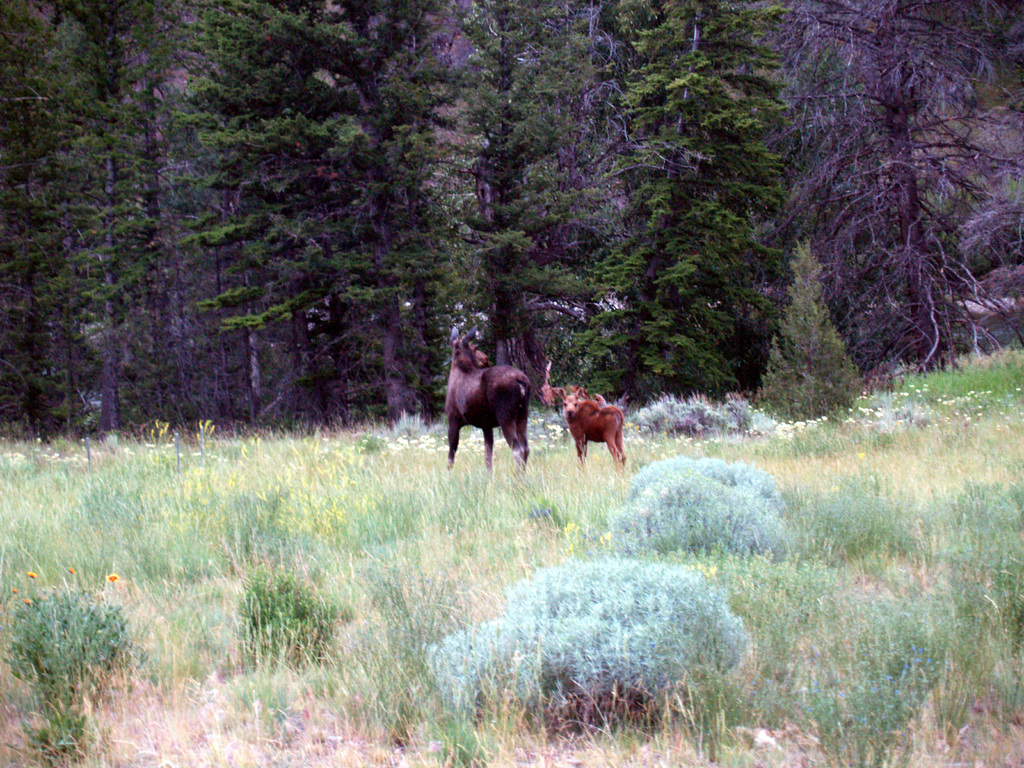horse: (446, 325, 531, 482)
